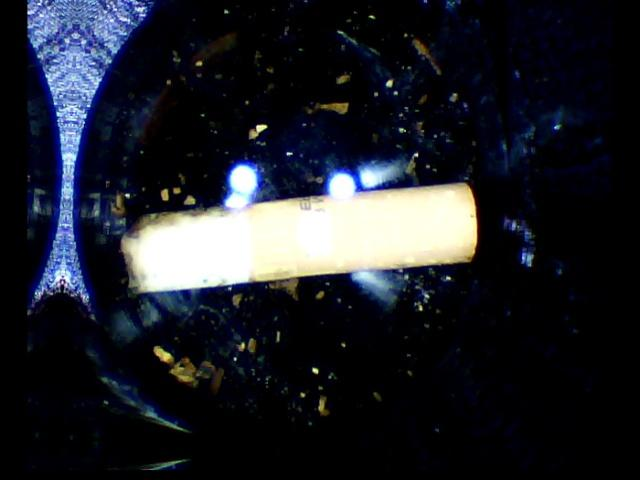megot: (113, 151, 484, 321)
